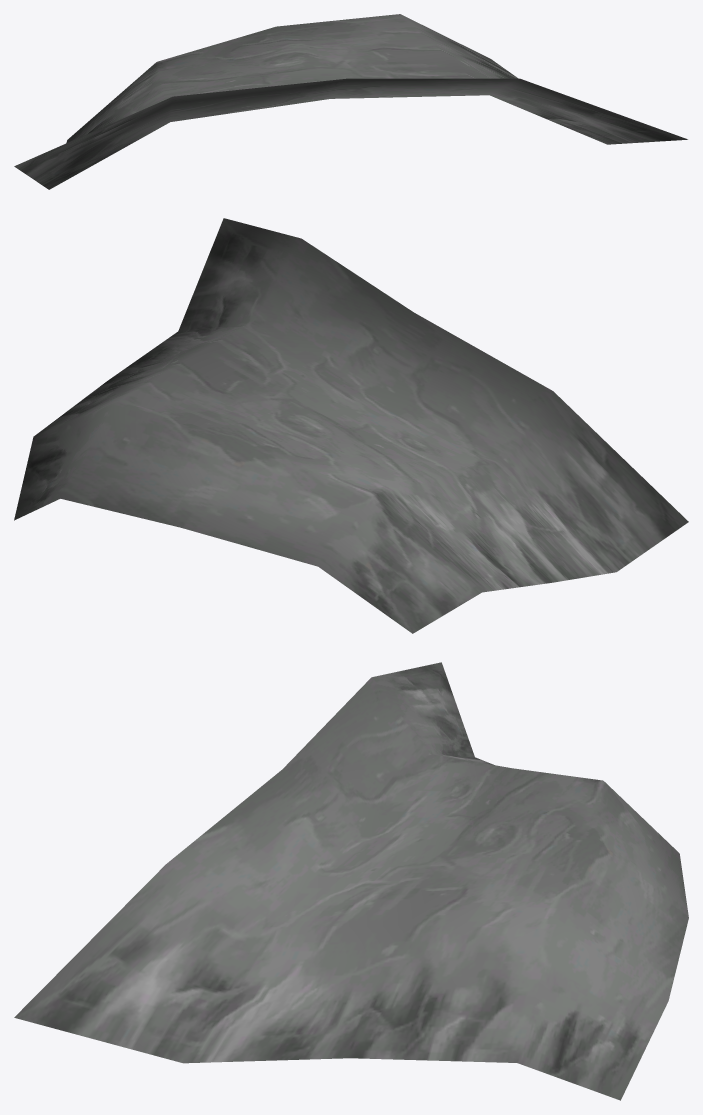
The model's file is SWORDLIGHT20_PS-AREA03_127.fbx.
3 views of the same model, one above another, from view 1: azimuth 30°, elevation 25°; view 2: azimuth 150°, elevation 25°; view 3: azimuth 270°, elevation 25° (orthographic). The views are drawn at different scales.
Parts seen in each view (by area): view 1: SWORDLIGHT20_PS-AREA03_127; view 2: SWORDLIGHT20_PS-AREA03_127; view 3: SWORDLIGHT20_PS-AREA03_127.
Part boxes in pixels (x1,y1,x2,y2): SWORDLIGHT20_PS-AREA03_127: [14, 14, 687, 189]; SWORDLIGHT20_PS-AREA03_127: [14, 218, 688, 633]; SWORDLIGHT20_PS-AREA03_127: [14, 662, 688, 1100].
Size of the model in its own units: 75256 by 18136 by 58532.
1 material, 1 textured.
